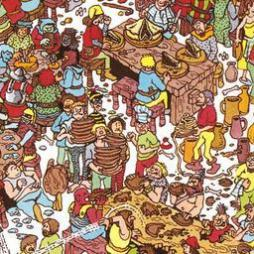odlaw: (87, 87, 107, 124)
